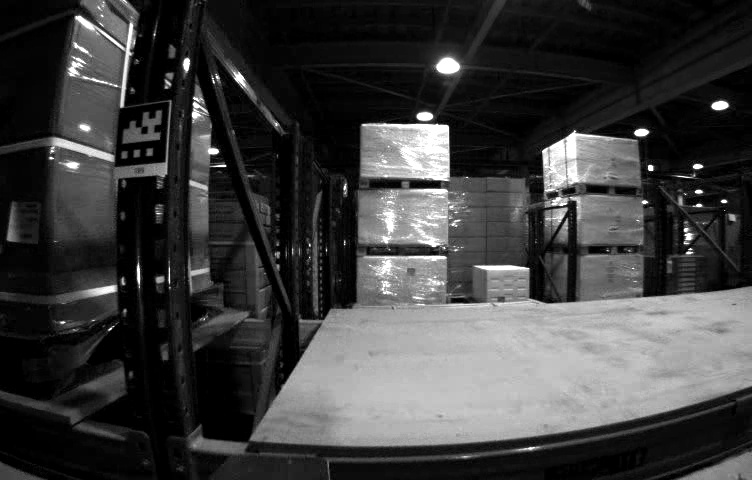True Barcode: (7, 200, 39, 242)
